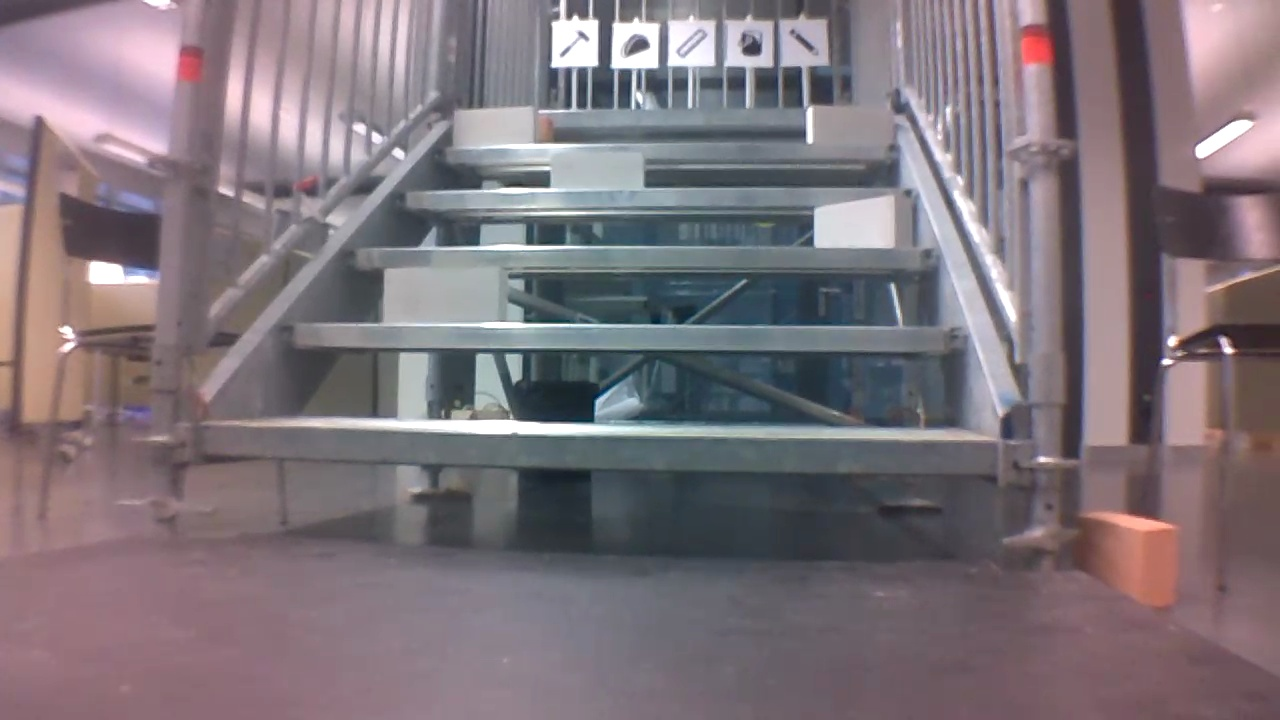brick: (384, 266, 508, 321), (814, 196, 912, 247), (551, 150, 642, 187), (805, 105, 889, 142), (453, 108, 535, 144), (538, 119, 554, 140)
bucket: (734, 25, 765, 58)
edge: (202, 425, 994, 474), (281, 323, 965, 351), (348, 247, 937, 268), (389, 189, 918, 207), (433, 142, 902, 160), (445, 107, 888, 125)
hammer: (555, 25, 593, 62)
pencil: (785, 24, 826, 58)
ruler: (673, 26, 710, 60)
stairs: (153, 3, 1075, 568)
steps: (190, 100, 1002, 490)
taco: (615, 26, 657, 62)
